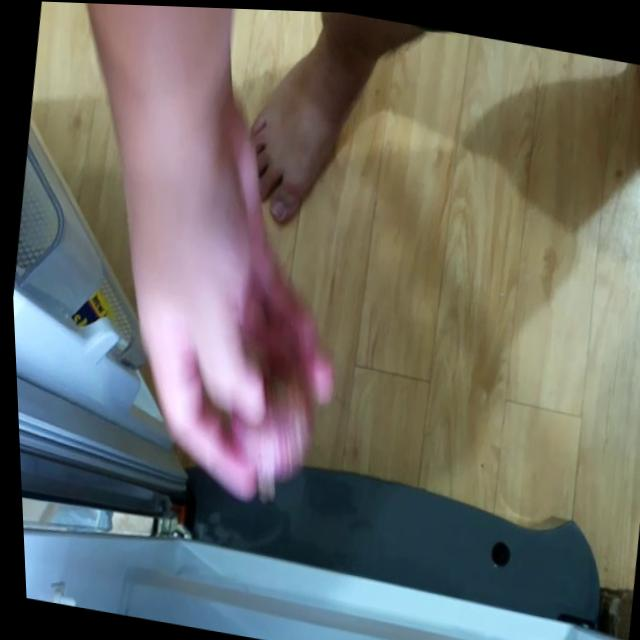onion: (209, 361, 318, 493)
